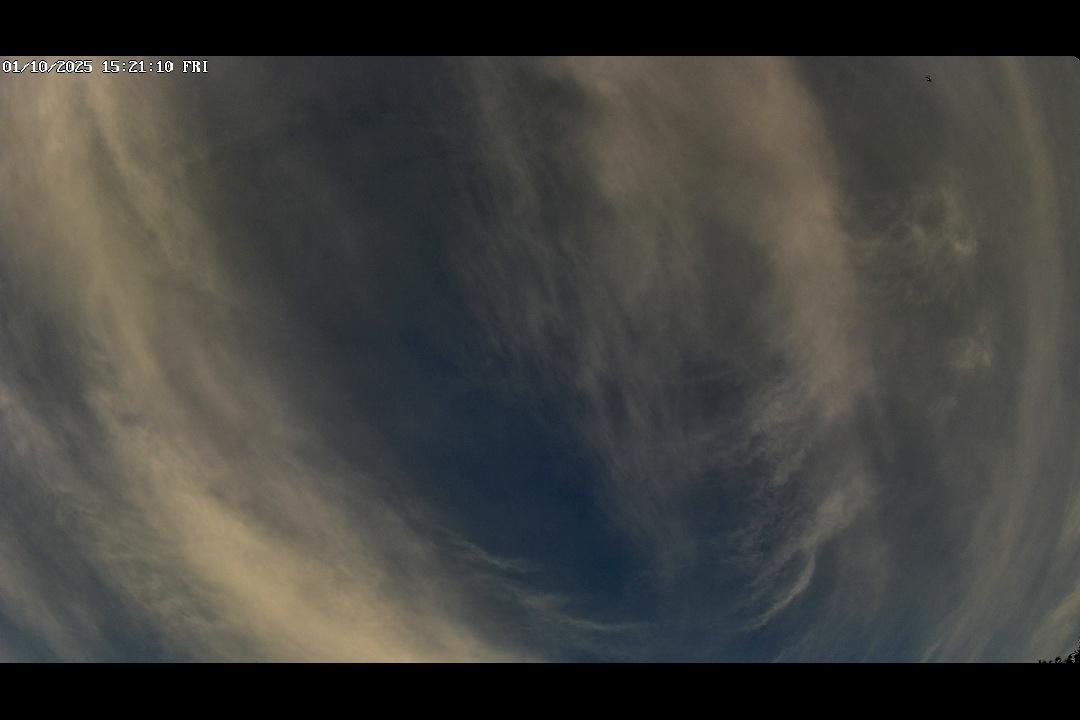Plane: (922, 73, 937, 85)
